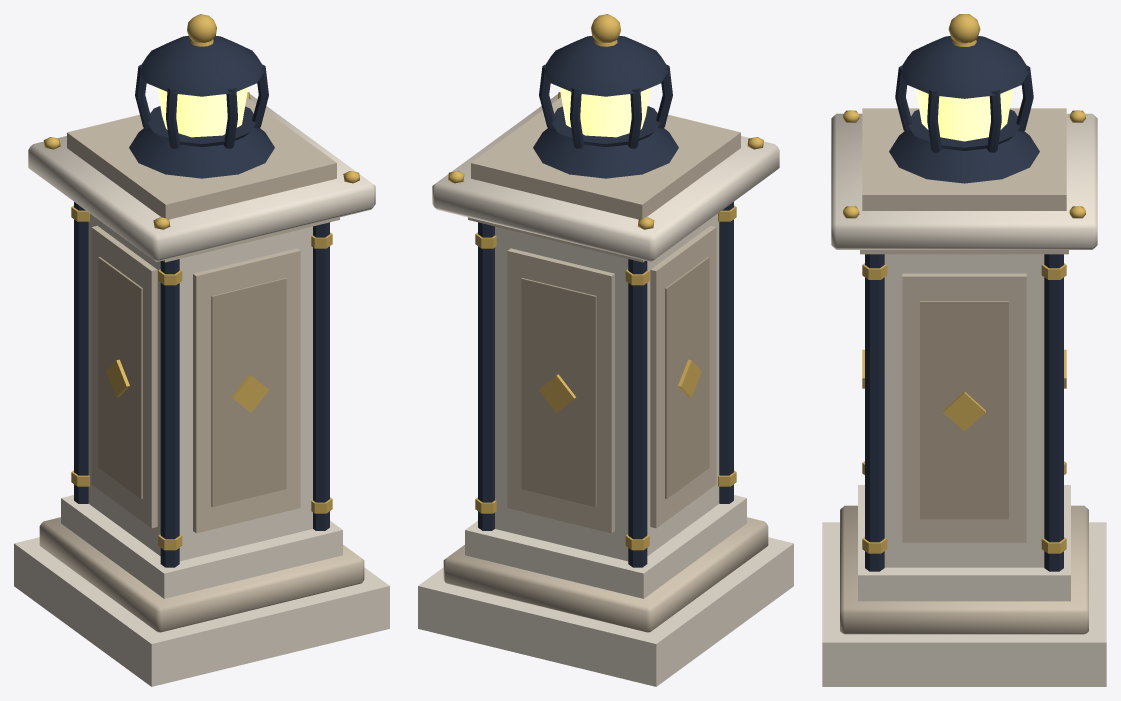
File: prop_railing_pillar.glb
The picture shows the model from 3 angles, left to right: view 1: azimuth 30°, elevation 25°; view 2: azimuth 150°, elevation 25°; view 3: azimuth 270°, elevation 25°; orthographic projection. The views are drawn at different scales.
Parts seen in each view (by area): view 1: prop_railing_pillar; view 2: prop_railing_pillar; view 3: prop_railing_pillar.
Boxes of the visible parts, bbox=[...] form: prop_railing_pillar: bbox=[14, 14, 389, 686]; prop_railing_pillar: bbox=[418, 14, 793, 686]; prop_railing_pillar: bbox=[822, 14, 1106, 686].
Size of the model in its own units: 0.64 by 1.52 by 0.64.
